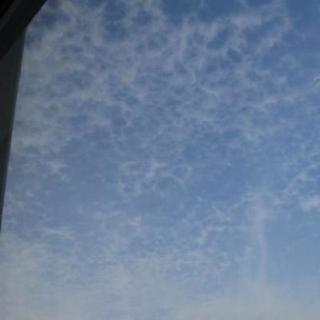Cirrocumulus: (20, 6, 320, 320)
